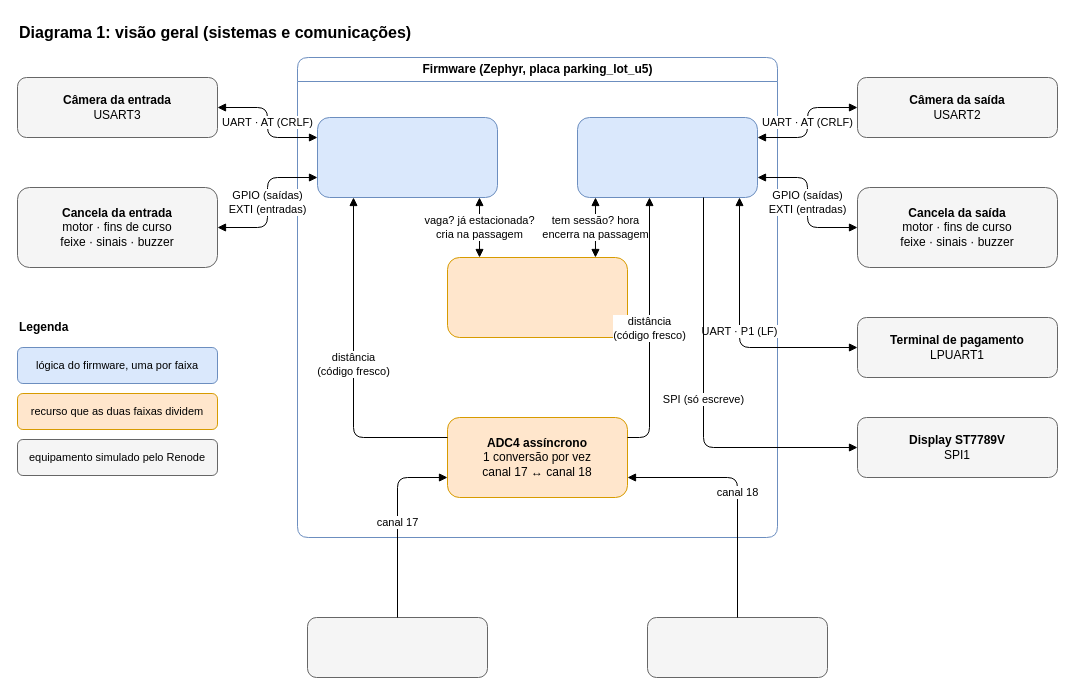
This 1075x695 diagram has some shape labels left out. Here are the shapes that lost their labels. From the top down, the centre of each, then its label:
At [407,157]: "Faixa ENTRADA máquina de estados (diagrama 2)".
At [667,157]: "Faixa SAÍDA máquina de estados (diagrama 2)".
At [537,297]: "Tabela de sessões placa + hora da entrada até CAPACITY (padrão 4)".
At [397,647]: "Sensor de distância entrada (PD13)".
At [737,647]: "Sensor de distância saída (PB0)".
